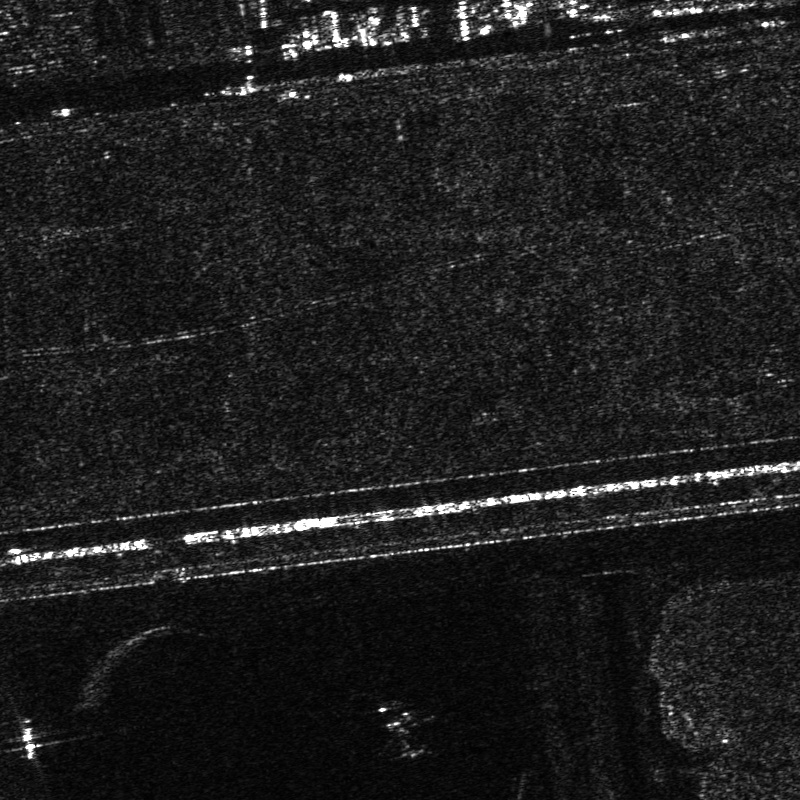A220: (368, 703, 437, 761)
